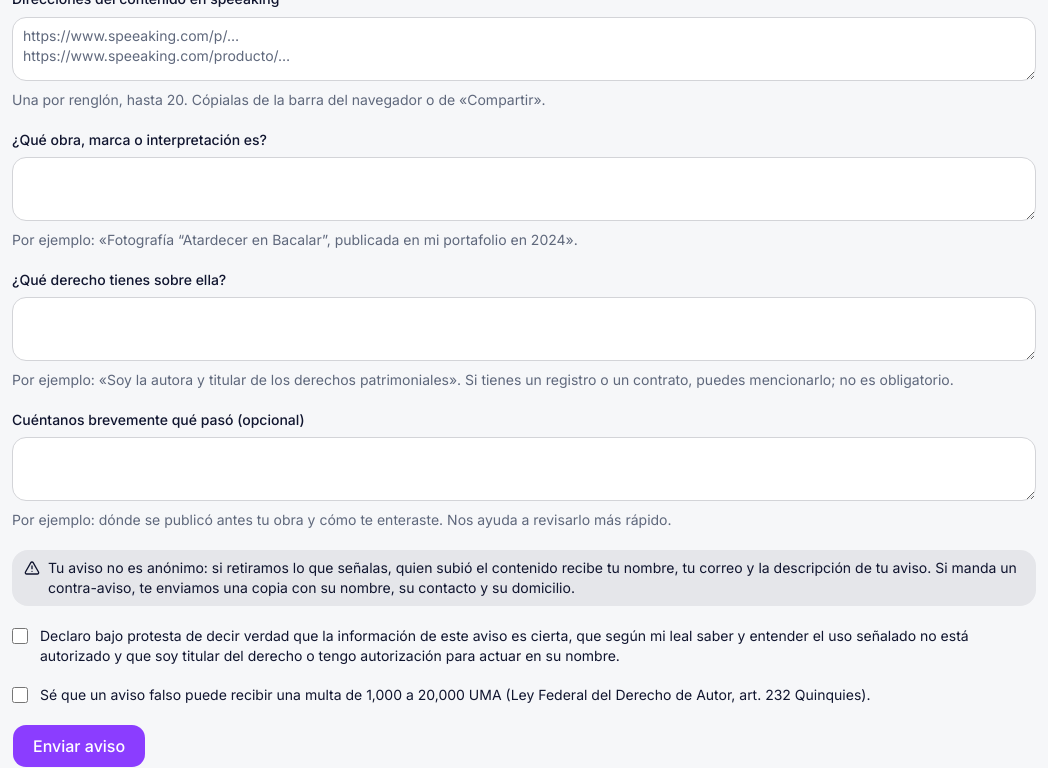
Test: NoticeForm al enviarse (ADR-076) › da el número de caso sin prometer seguimiento ni un correo que no salió
(page scrolled)
Click the button "Enviar aviso" at (79, 746), box [12,724,146,767]
(page scrolled)
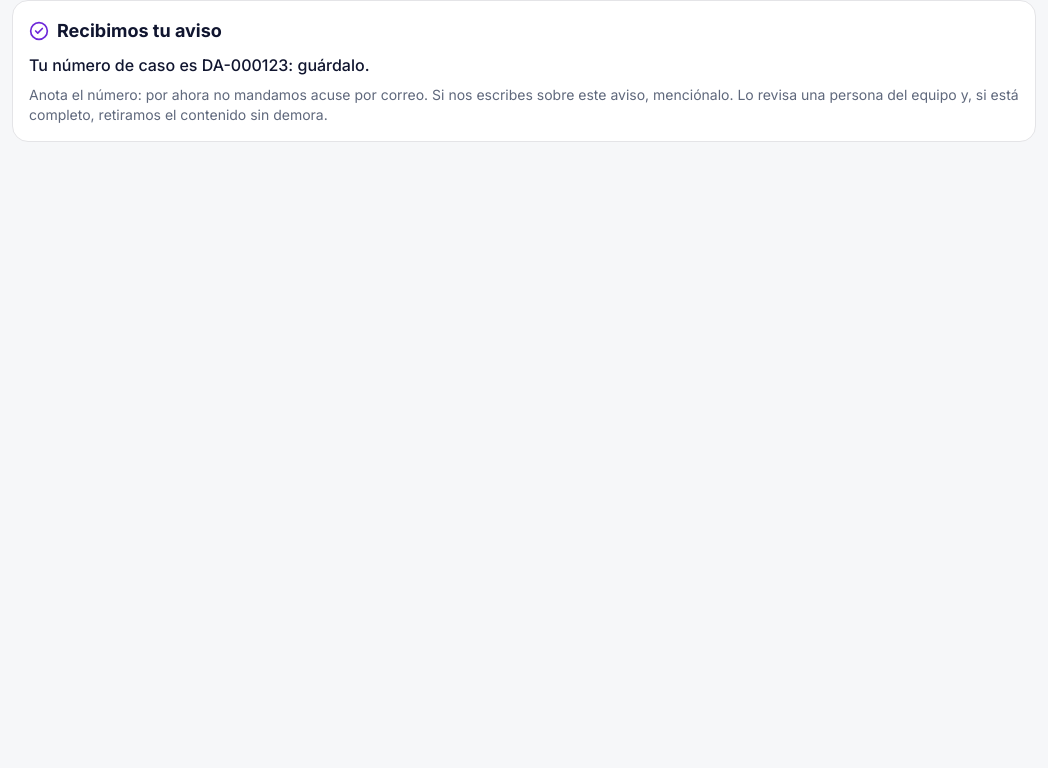
Expected: the message does not show "seguimiento", [12,0,1036,142]
Expected: the message shows "Tu número de caso es DA-000123: guárdalo.", [29,55,370,75]
Expected: the message shows "por ahora no mandamos acuse por correo", [29,86,428,103]
